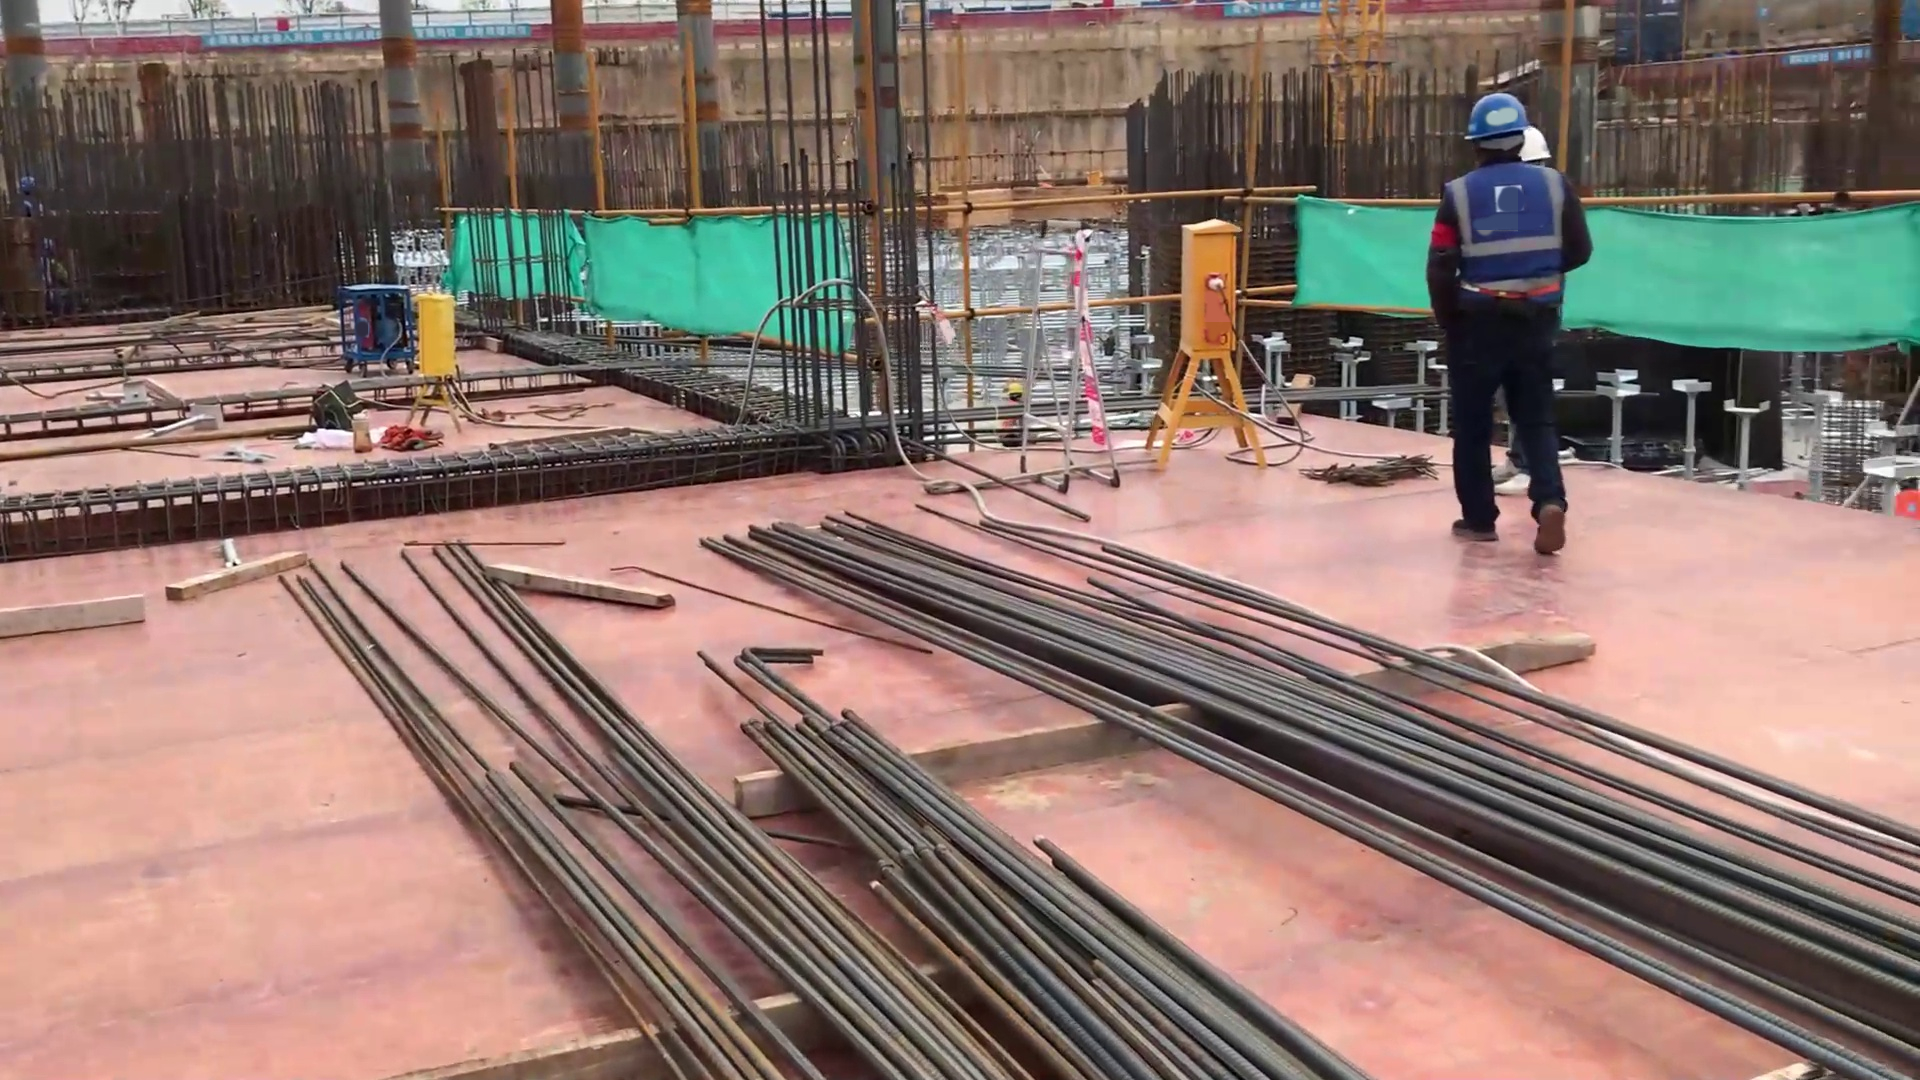ebox: (1140, 216, 1269, 471), (396, 288, 482, 431)
fence: (1, 2, 1553, 55)
helmet: (1458, 89, 1526, 132), (1513, 119, 1553, 162), (1004, 381, 1025, 394)
person: (1424, 88, 1582, 551), (1003, 384, 1038, 436)
rebar: (272, 539, 1915, 1080)
slogan: (203, 19, 535, 60), (1216, 1, 1351, 20), (1786, 46, 1882, 64)
vest: (1434, 162, 1565, 297)
